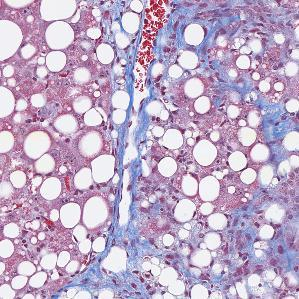fibrosis: (113, 9, 220, 88), (174, 210, 292, 278), (110, 143, 147, 253), (250, 104, 294, 156)
